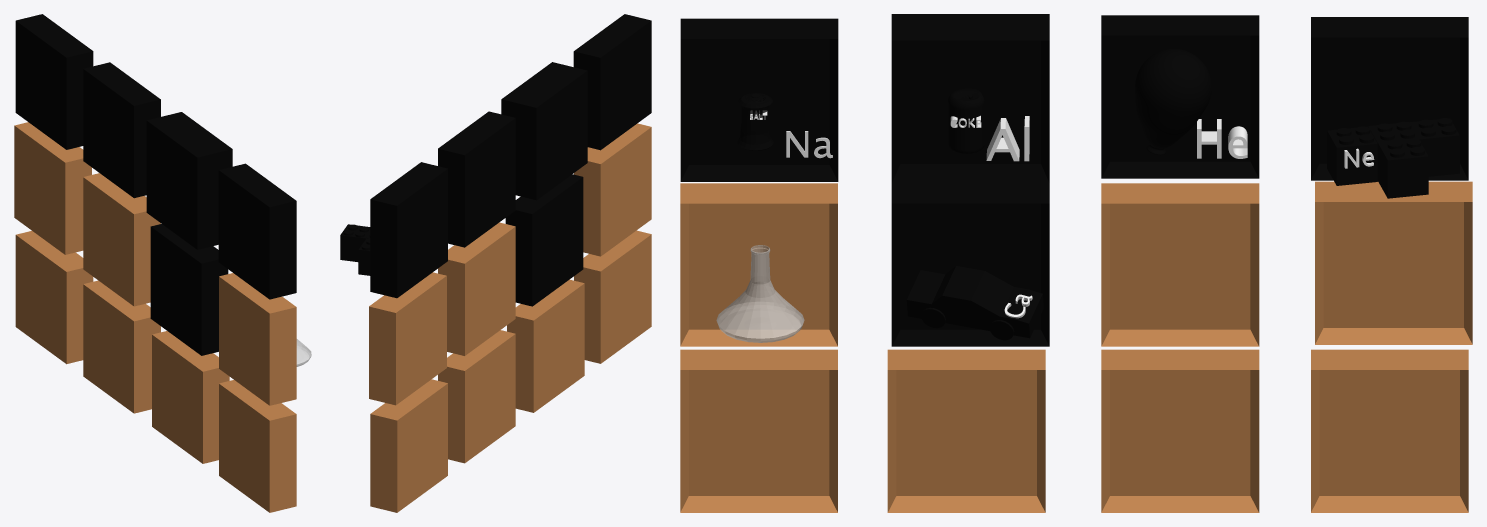
Rendered from Allassets1-24.fbx.
3 renders of one model, left to right at view 1: azimuth 30°, elevation 25°; view 2: azimuth 150°, elevation 25°; view 3: azimuth 270°, elevation 25°, orthographic. The views are drawn at different scales.
Parts seen in each view (by area): view 1: typeMesh7, SodiumBicar:directionalLight1, test_beaker:Mesh, pCube9, neQY:group4_neQY:pCube1, typeMesh3, pCube12, pCube8, pCube11, pCube7, Ca_Car2:volumeLight1, pCube10; view 2: neQY:group4_neQY:pCube1, typeMesh7, pCube12, pCube8, typeMesh3, SodiumBicar:directionalLight1, pCube10, pCube7, pCube11, pCube9, Ca_Car2:volumeLight1, test_beaker:Mesh; view 3: typeMesh7, neQY:group4_neQY:pCube1, pCube7, typeMesh3, pCube10, pCube11, Ca_Car2:volumeLight1, SodiumBicar:directionalLight1, pCube9, pCube12, test_beaker:Mesh, pCube8.
Boxes of the visible parts, x1,y1,x2,y2 form: typeMesh7: (146,112,232,249); SodiumBicar:directionalLight1: (218,163,296,299); test_beaker:Mesh: (219,273,311,405); pCube9: (219,380,296,512); neQY:group4_neQY:pCube1: (15,14,93,149); typeMesh3: (83,62,160,198); pCube12: (15,231,93,364); pCube8: (14,122,91,254); pCube11: (83,280,160,413); pCube7: (83,173,160,306); Ca_Car2:volumeLight1: (150,224,228,355); pCube10: (152,331,229,463); neQY:group4_neQY:pCube1: (340,162,447,298); typeMesh7: (501,62,587,200); pCube12: (370,379,447,512); pCube8: (369,272,446,405); typeMesh3: (438,111,515,247); SodiumBicar:directionalLight1: (573,14,651,150); pCube10: (507,279,584,412); pCube7: (438,222,515,355); pCube11: (438,330,515,463); pCube9: (574,230,651,363); Ca_Car2:volumeLight1: (505,174,583,306); test_beaker:Mesh: (574,123,651,256); typeMesh7: (891,14,1049,183); neQY:group4_neQY:pCube1: (1311,17,1468,198); pCube7: (1101,183,1259,346); typeMesh3: (1101,15,1259,178); pCube10: (887,349,1045,512); pCube11: (1101,349,1259,512); Ca_Car2:volumeLight1: (891,183,1049,346); SodiumBicar:directionalLight1: (680,18,838,181); pCube9: (680,349,837,512); pCube12: (1311,349,1468,512); test_beaker:Mesh: (680,183,837,346); pCube8: (1315,181,1472,344).
Bounding box in the file's own units: 13.5 × 50.02 × 75.29.
